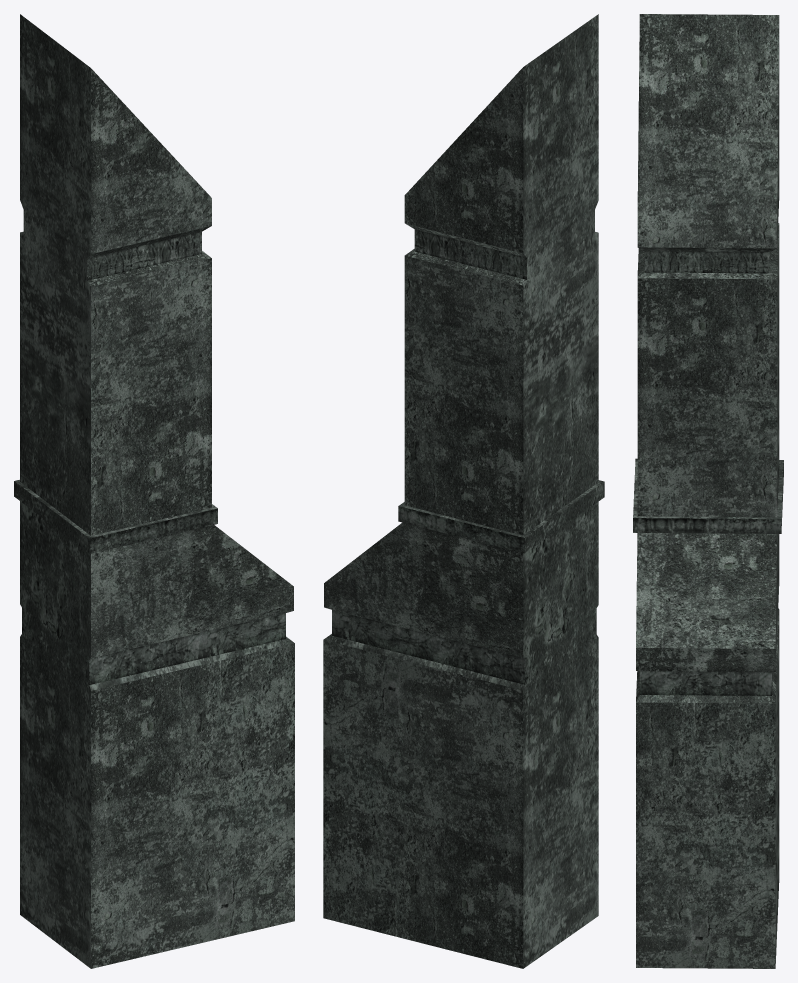
File: mg_9_pillar_2.fbx
The picture shows the model from 3 angles, left to right: view 1: azimuth 30°, elevation 25°; view 2: azimuth 150°, elevation 25°; view 3: azimuth 270°, elevation 25°; orthographic projection. The views are drawn at different scales.
Parts seen in each view (by area): view 1: mg_9_pillar_2; view 2: mg_9_pillar_2; view 3: mg_9_pillar_2.
Part boxes in pixels (left/top/right/bottom): mg_9_pillar_2: left=14, top=14, right=294, bottom=968; mg_9_pillar_2: left=323, top=14, right=604, bottom=968; mg_9_pillar_2: left=633, top=14, right=783, bottom=968.
Size of the model in its own units: 343 by 1421 by 226.
